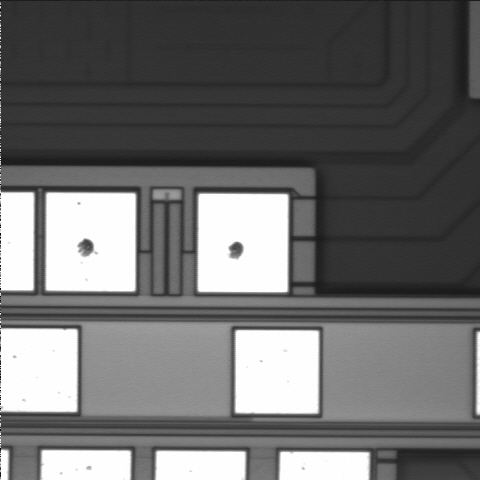pad: (46, 193, 136, 291), (198, 194, 288, 292), (235, 330, 319, 414)
